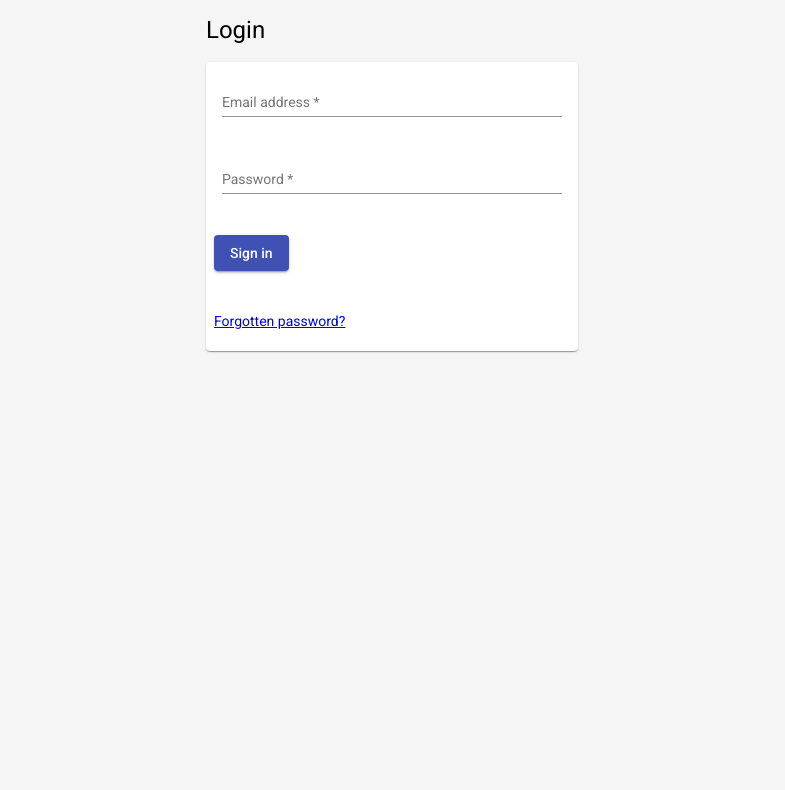
Test: /Home › As a user, I should be able to cancel adding a new task
The width and height of the screenshot is (785, 790).
Step 1. Type "test@carelinelive.com" into the field with test id "Email" → point(392, 103), box [222,95,562,111]
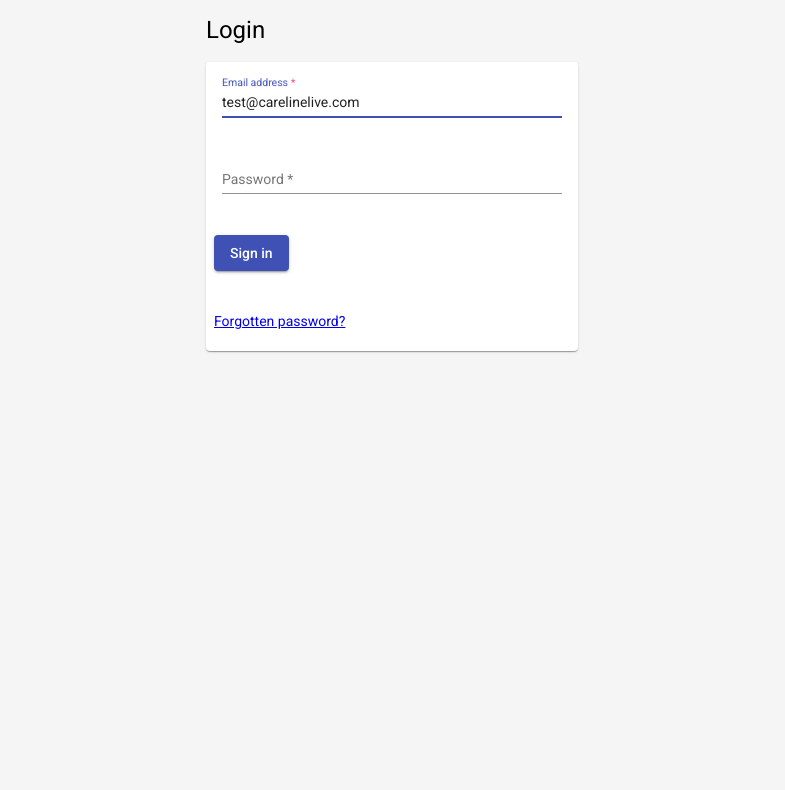
Step 2. Type "password" into the password field with test id "Password" → point(392, 180), box [222,172,562,188]
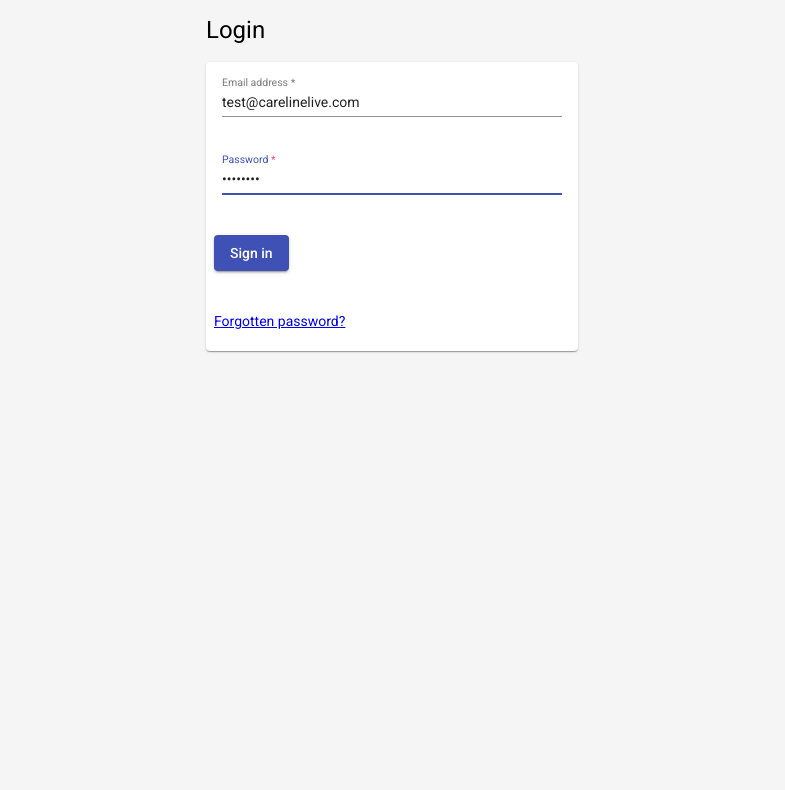
Step 3. Click the button with test id "Submit" → point(252, 253), box [214,235,289,271]
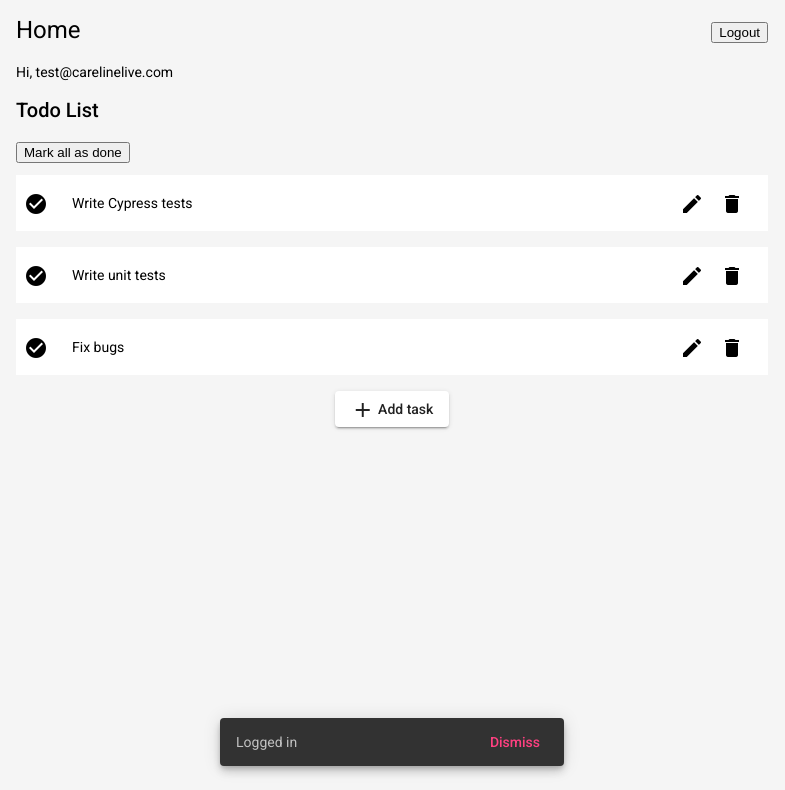
Check: the header with test id "Home" is shown, box [16,16,768,44]
Step 4. Click the button with test id "AddTaskButton" → point(393, 409), box [335,391,450,427]
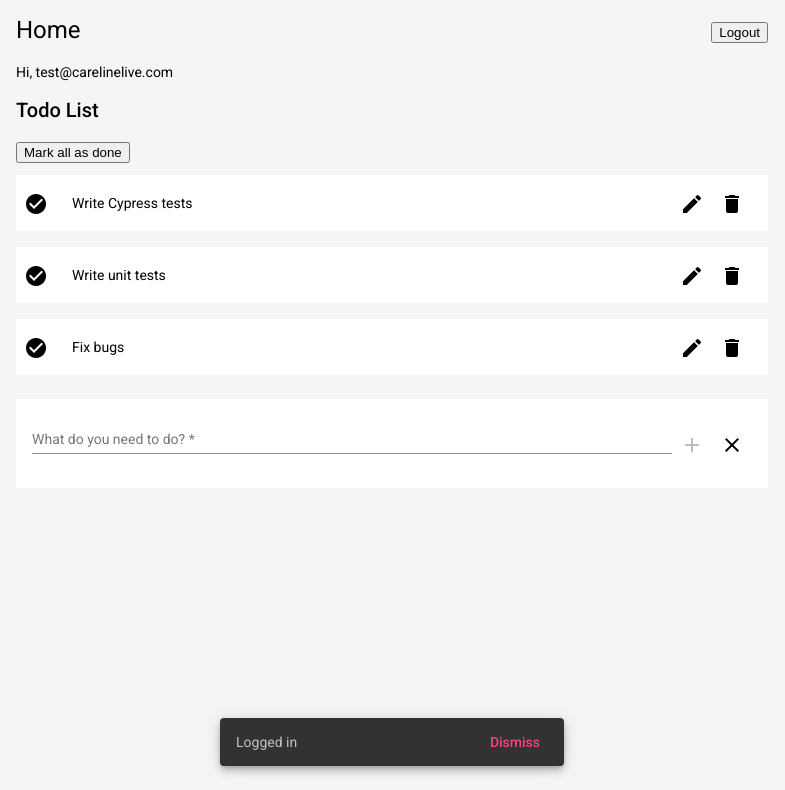
Step 5. Click the button with test id "ClearAddTask" → point(732, 443), box [712,423,752,463]
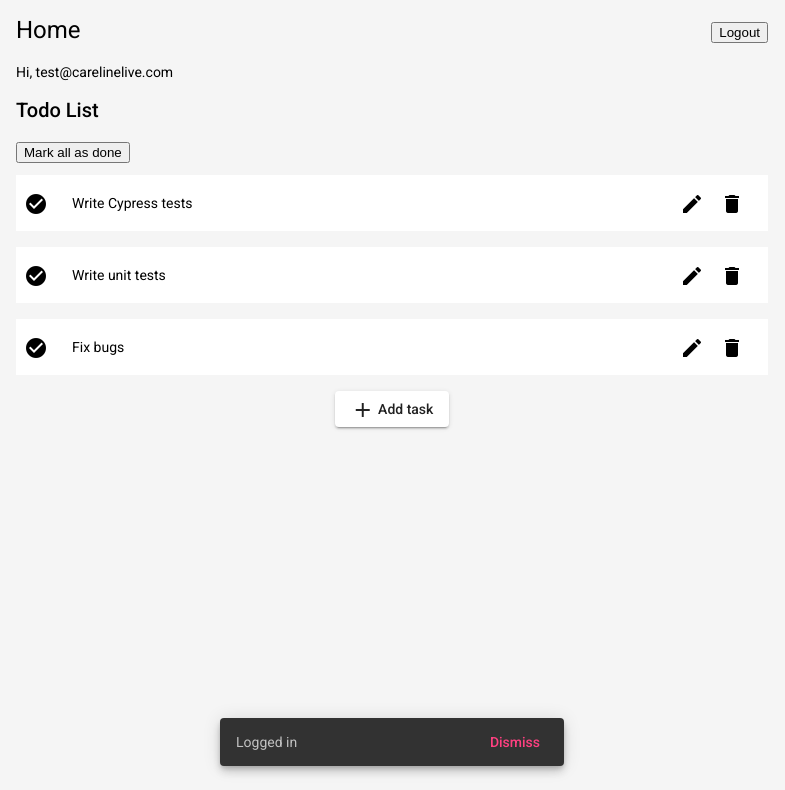
Check: the field with test id "AddTaskInput" is gone
